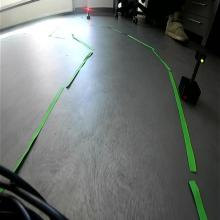green: (195, 49, 207, 64)
